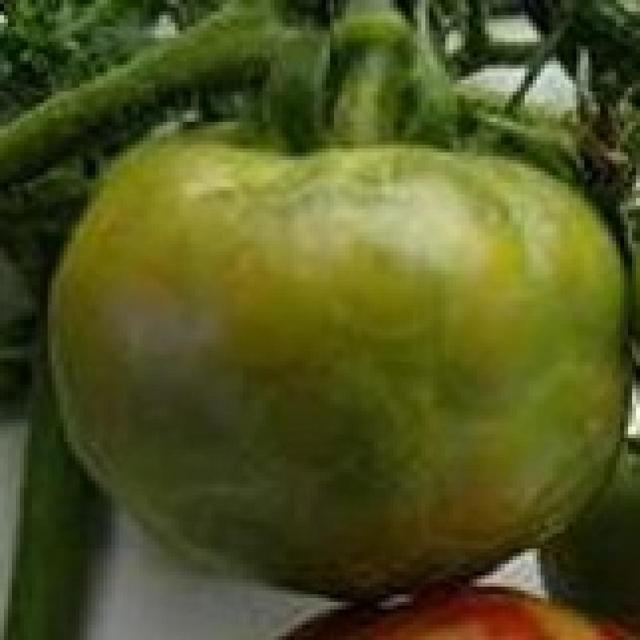Spotted wilt Virus Fruit: (0, 116, 87, 469)
